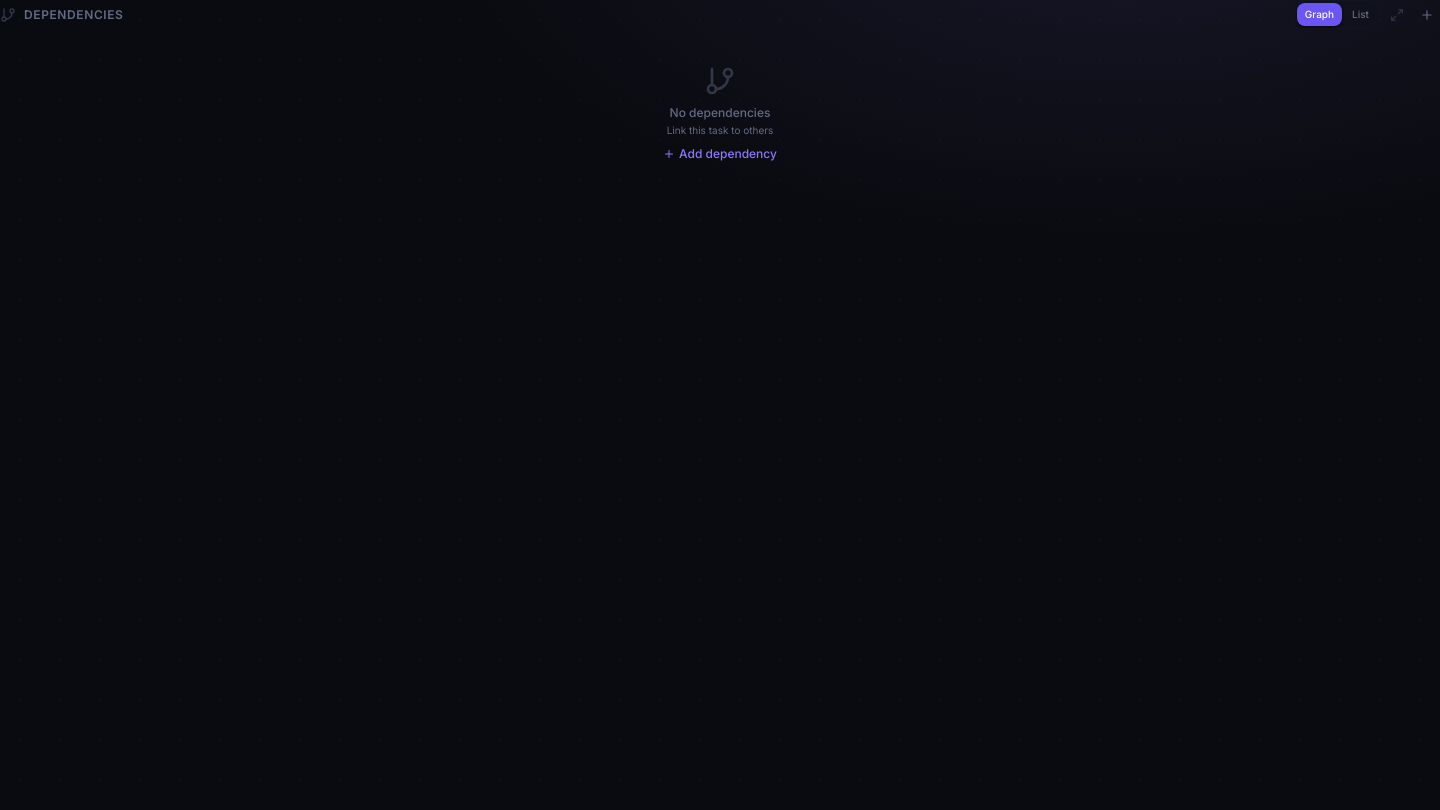
Scenario: TaskDependencyGraph (React Testing Library) › opens the add dependency dialog when clicking the plus button
The width and height of the screenshot is (1440, 810).
Click the button titled "Add dependency": (1427, 14) [1414,2,1439,28]
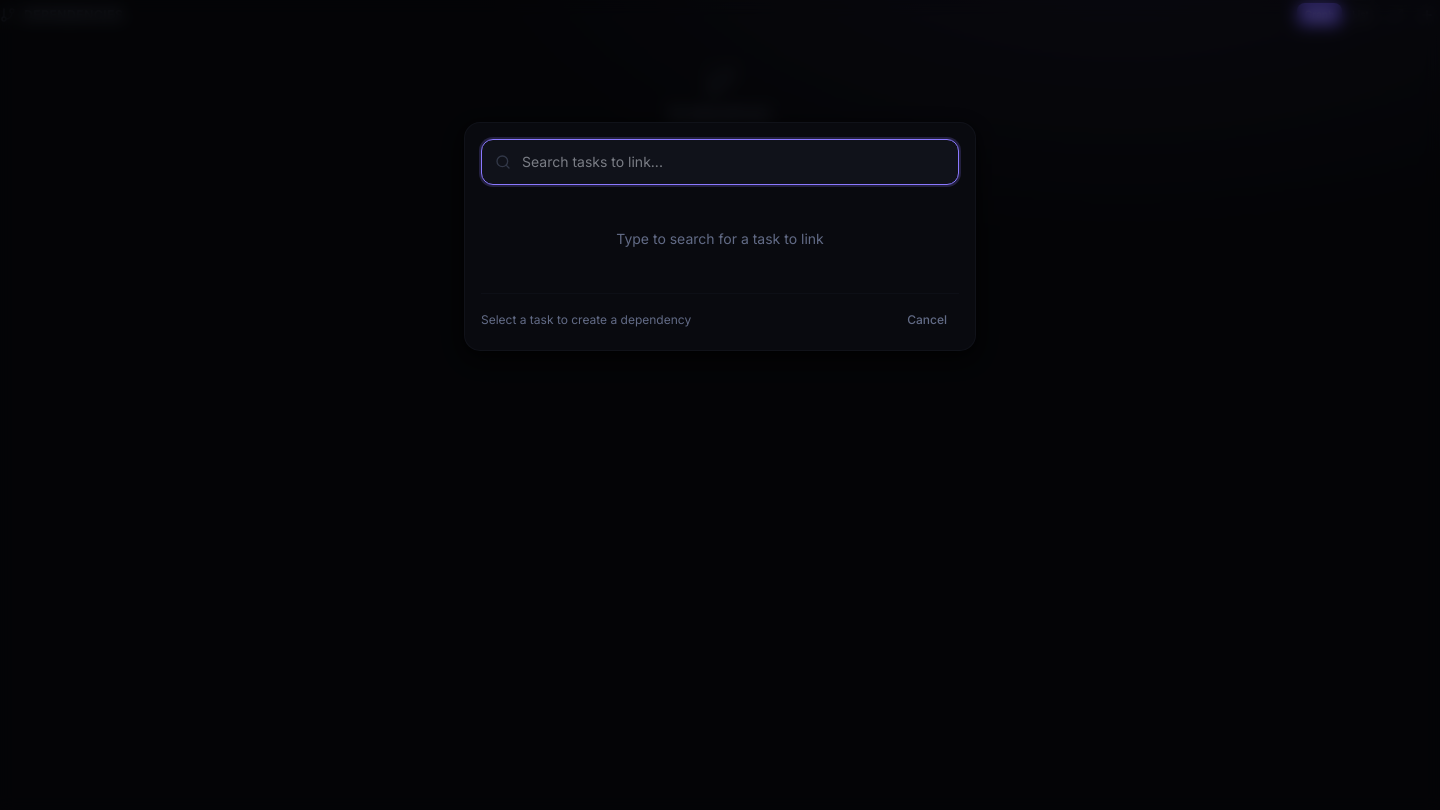
Now the field with placeholder "Search tasks to link..." is shown, box [481,138,959,184]
